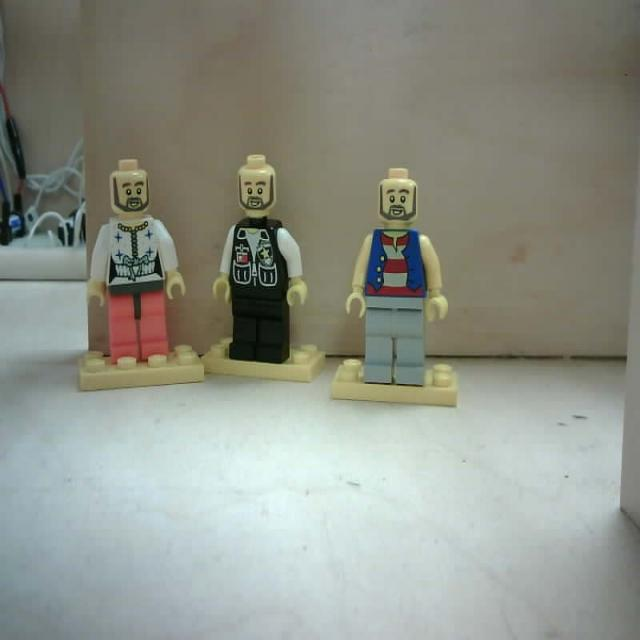Lego-People: (332, 166, 461, 412), (77, 157, 206, 394), (200, 154, 330, 384)
